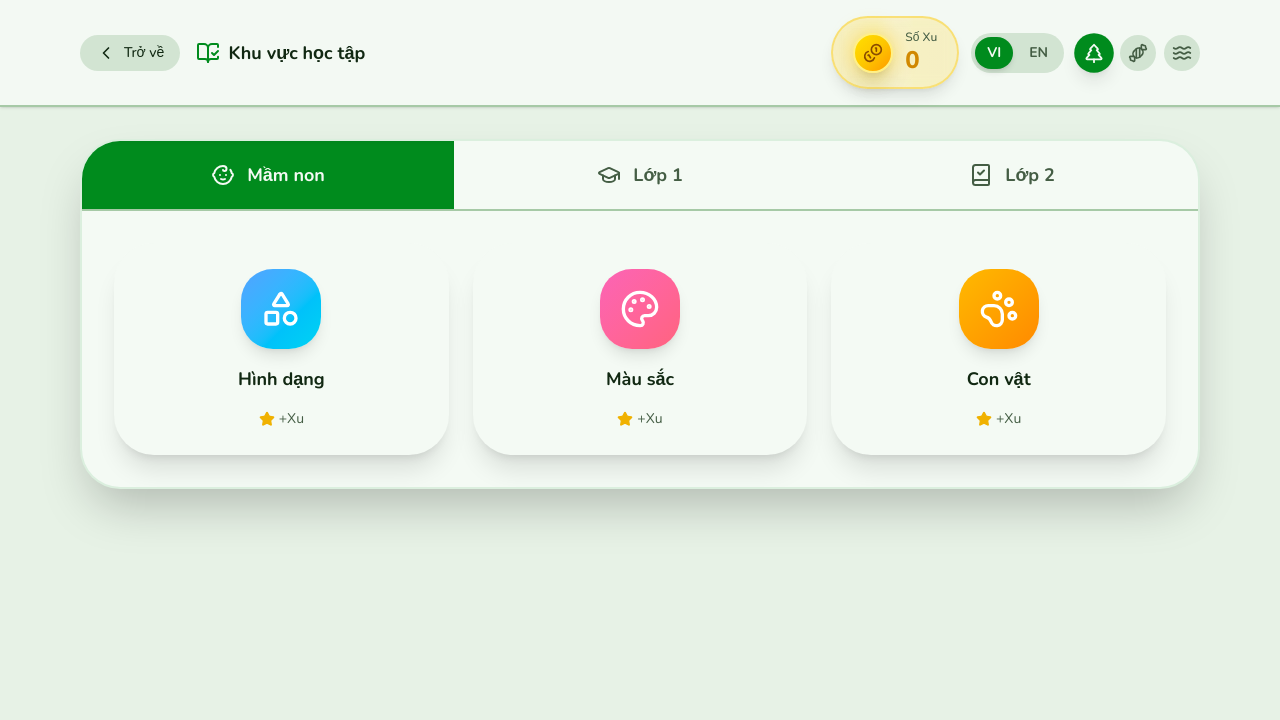
Scenario: LearningZone — DB-backed content subjects › TC-U120 | a math practice opens with no loading state (generated in-code)
Step 1. Click the button with test id "tab-grade1" → (640, 175), box top-left (454, 141), bottom-right (826, 209)
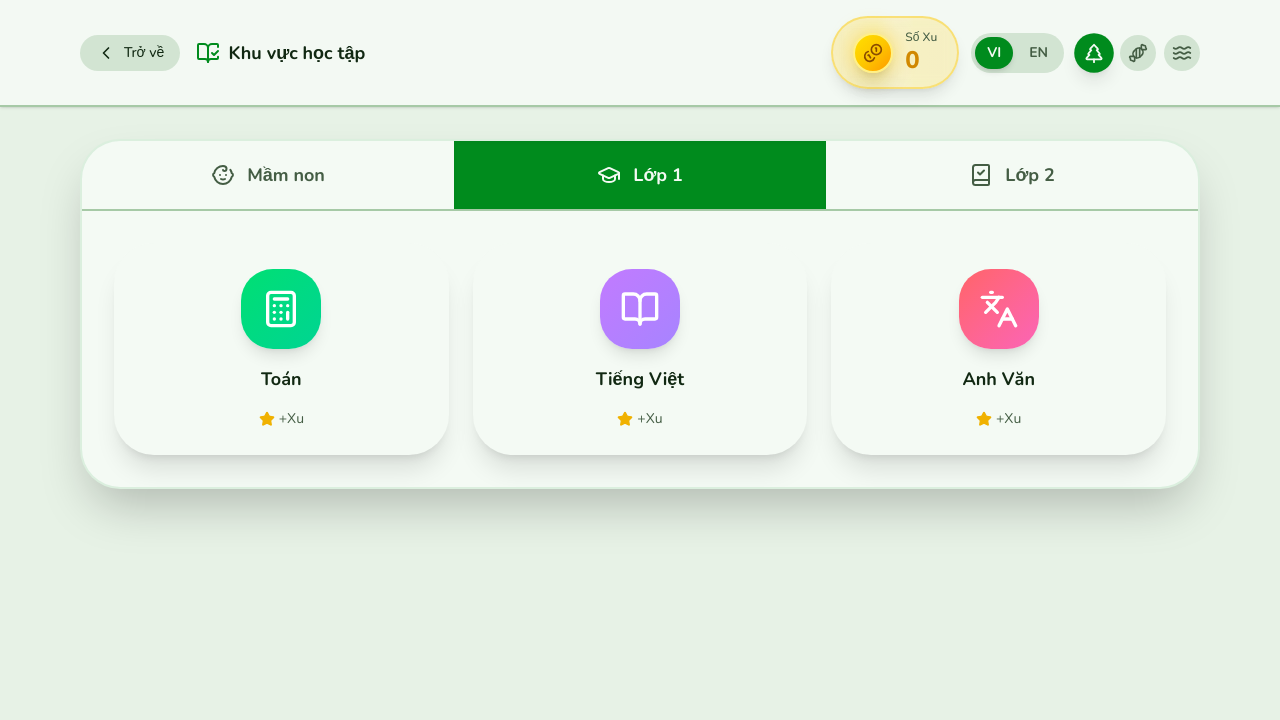
Step 2. Click the button with test id "quiz-math" → (281, 349), box top-left (114, 243), bottom-right (449, 455)
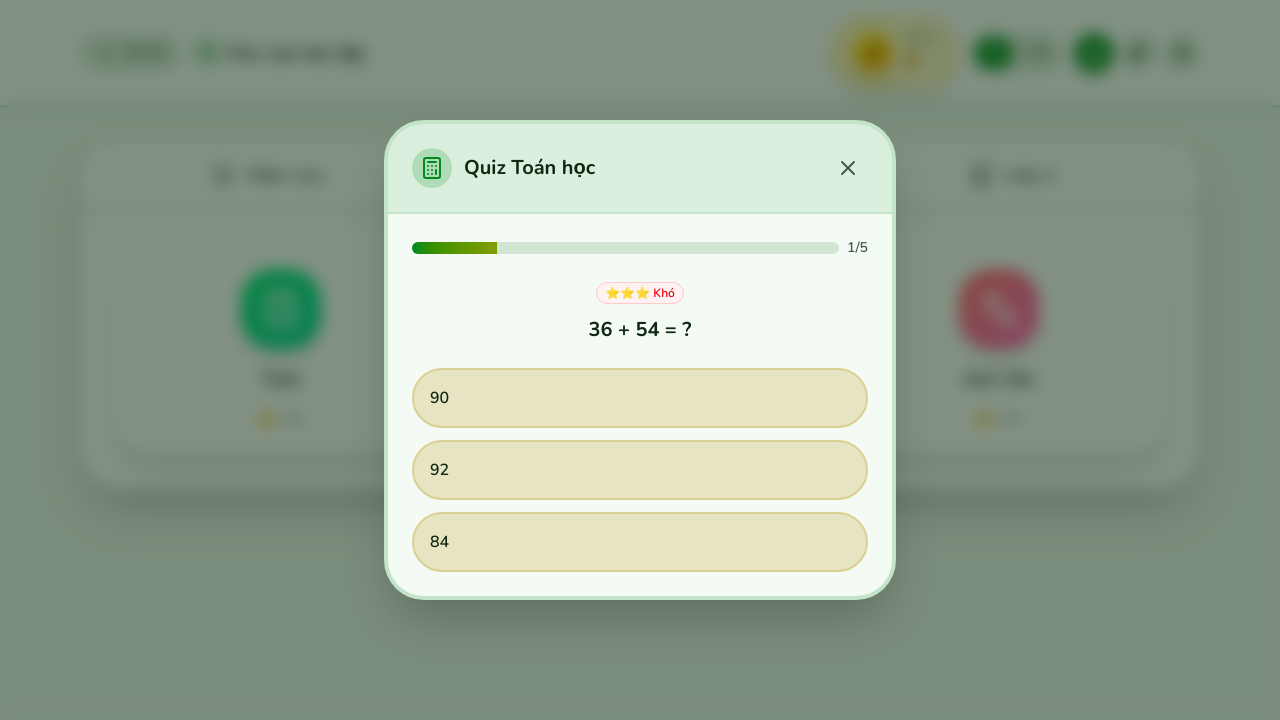
Check: the heading "36 + 54 = ?" is shown, box top-left (589, 316), bottom-right (692, 343)
